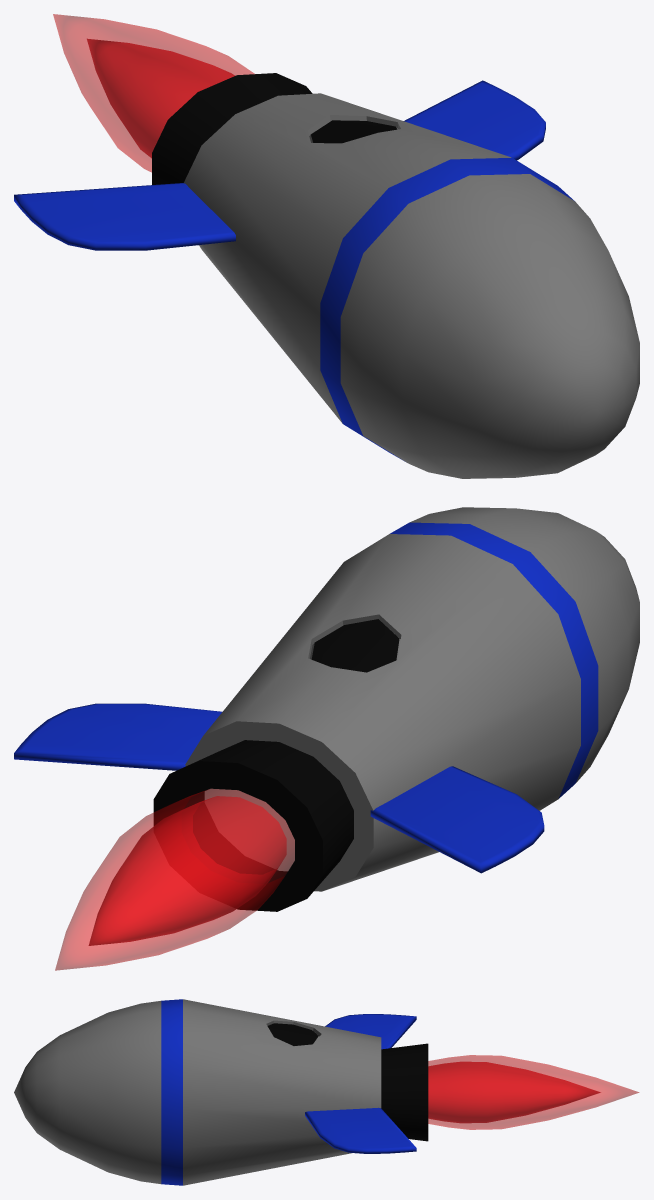
File: uploads_files_3814504_rocket+booster.FBX
The picture shows the model from 3 angles, top to bottom: view 1: azimuth 30°, elevation 25°; view 2: azimuth 150°, elevation 25°; view 3: azimuth 270°, elevation 25°; orthographic projection. The views are drawn at different scales.
Visible parts, largest first — view 1: Sphere001; view 2: Sphere001; view 3: Sphere001.
Part boxes in pixels (box(x1,y1,x2,y2)): Sphere001: box(14, 14, 639, 478); Sphere001: box(14, 507, 639, 970); Sphere001: box(14, 999, 639, 1185).
Bounding box in the file's own units: 38.4 × 21.93 × 74.36.
